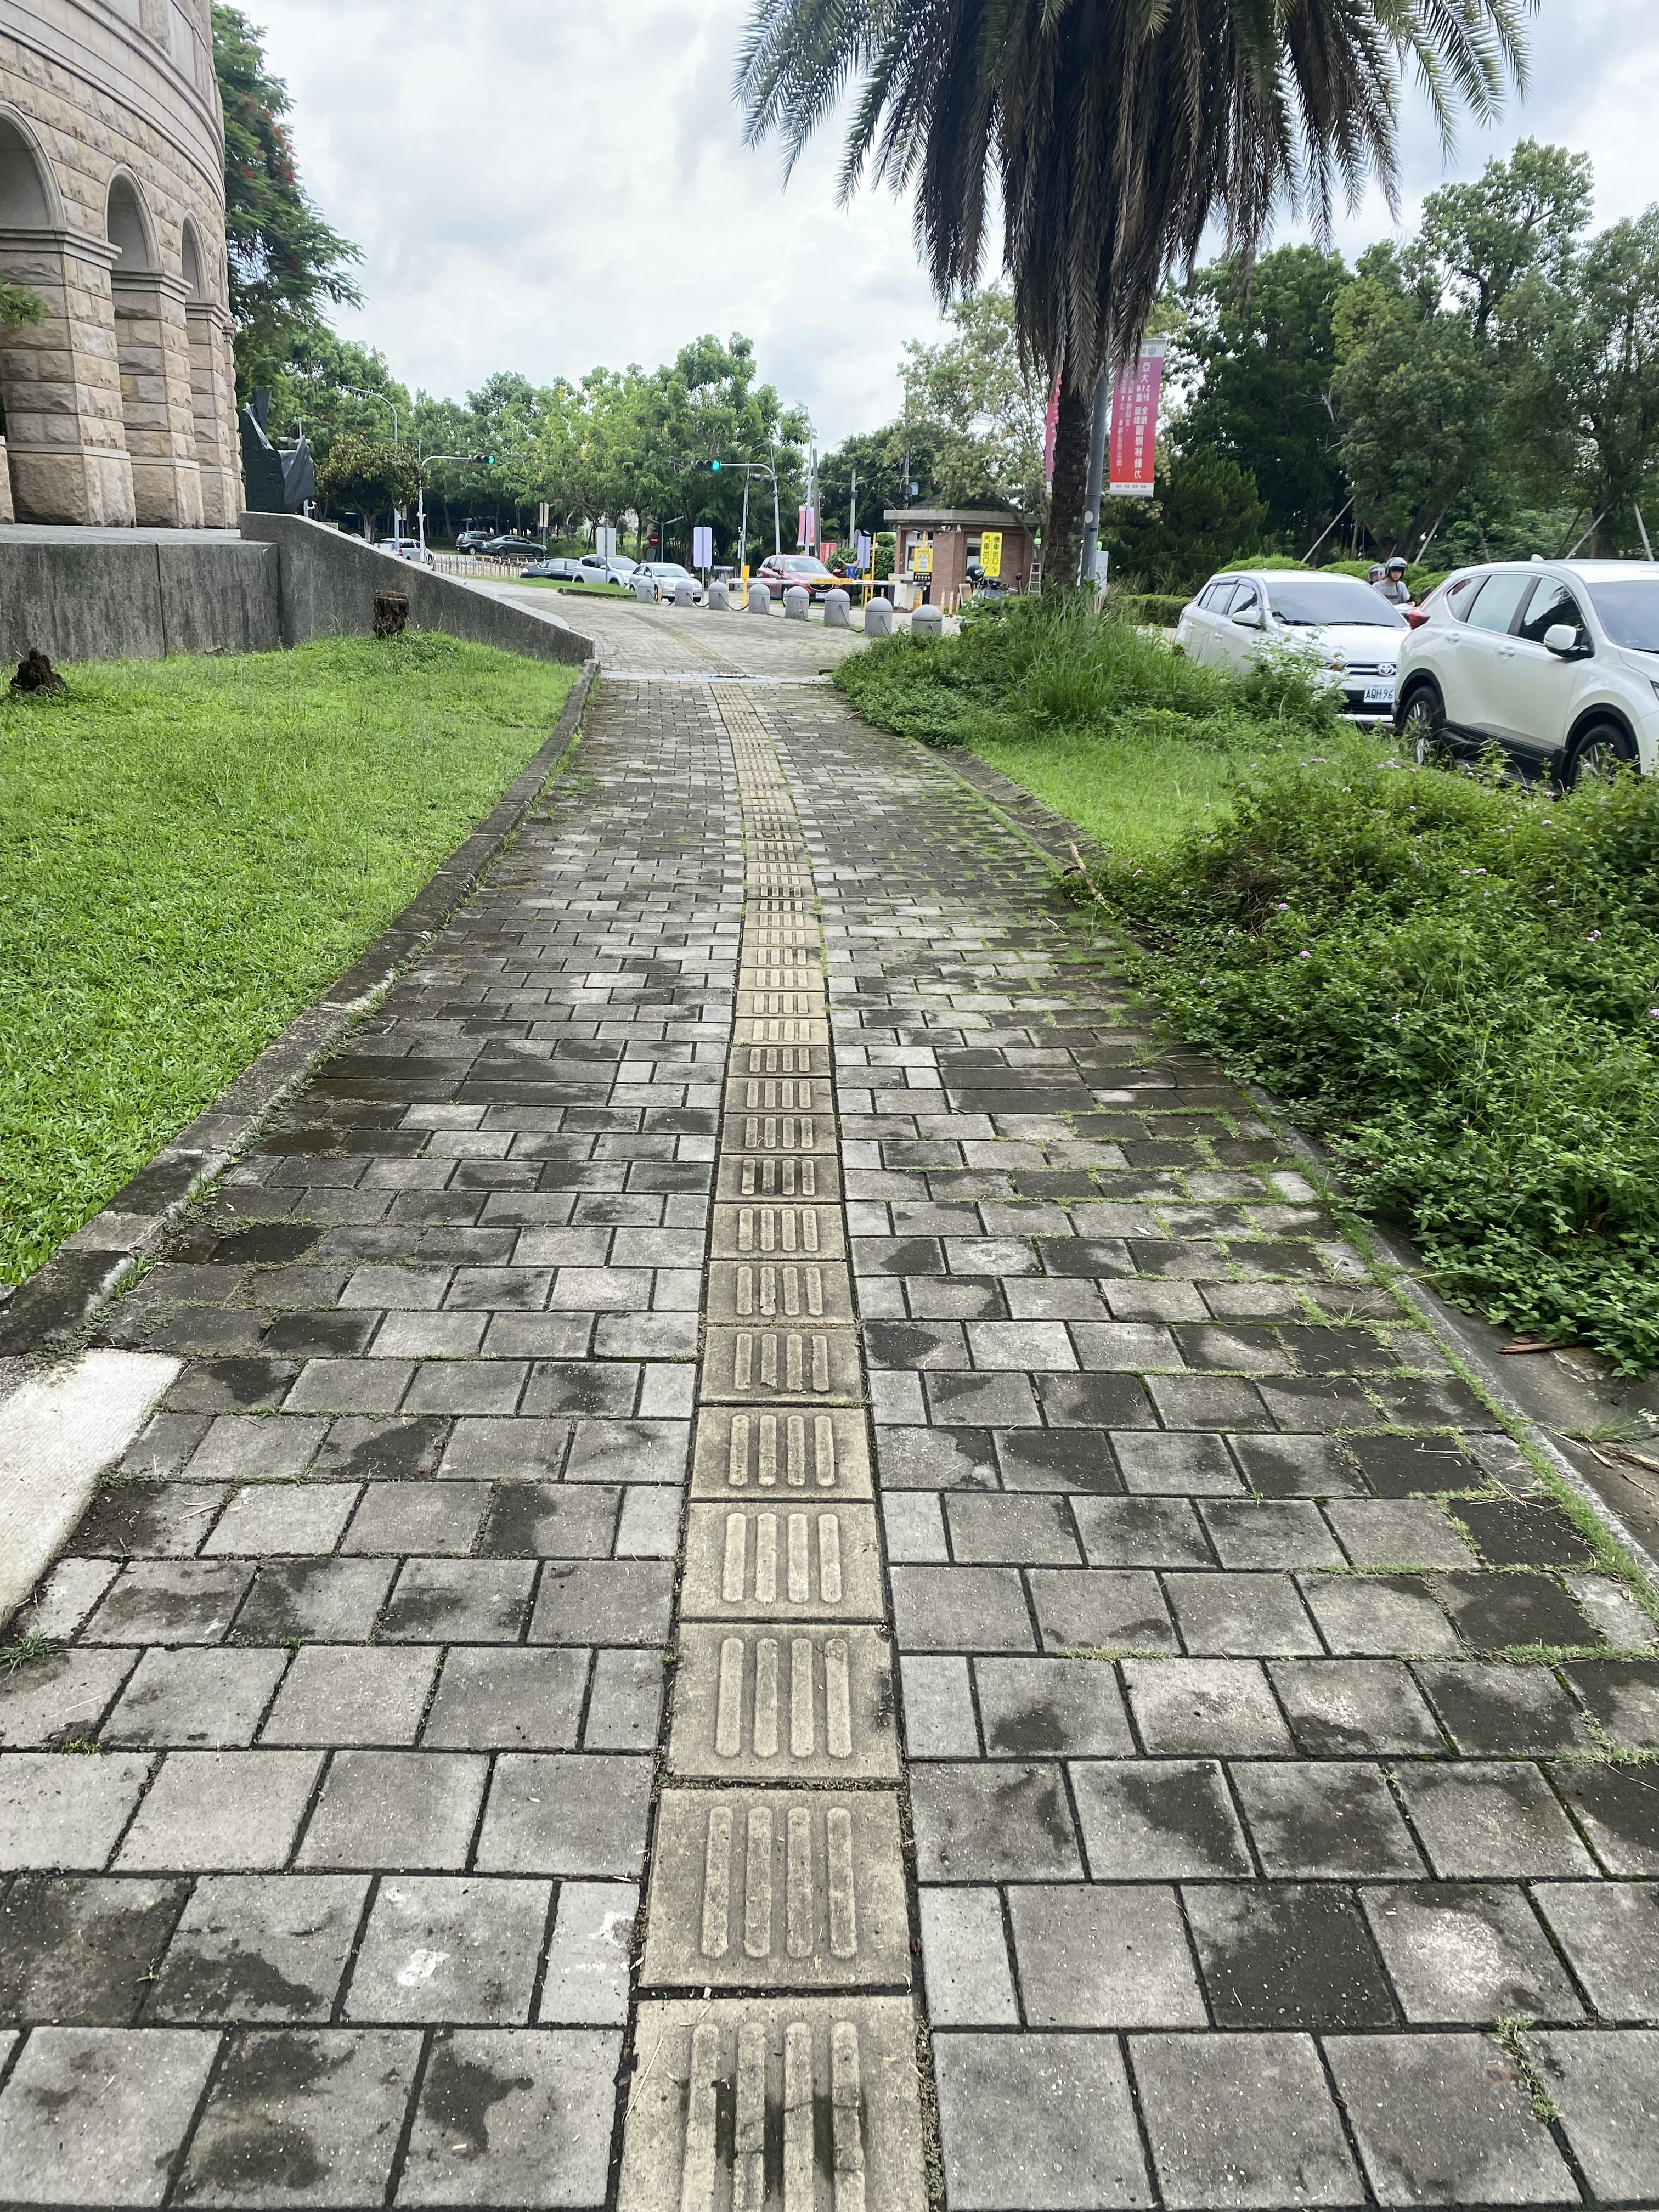0: (0, 895, 1659, 2212)
sidewalk: (460, 552, 1140, 1507)
